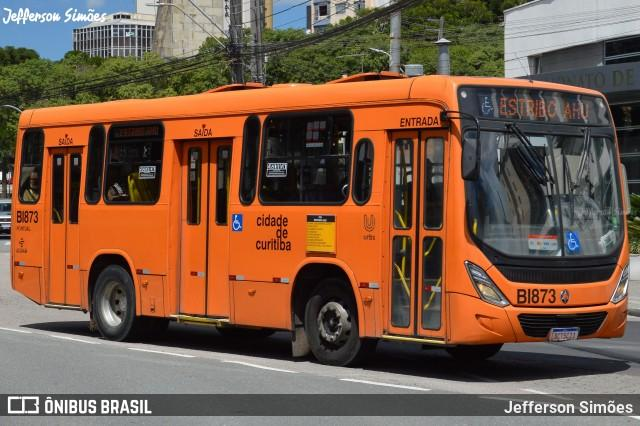ESTRIBO AHU: (495, 94, 594, 124)
